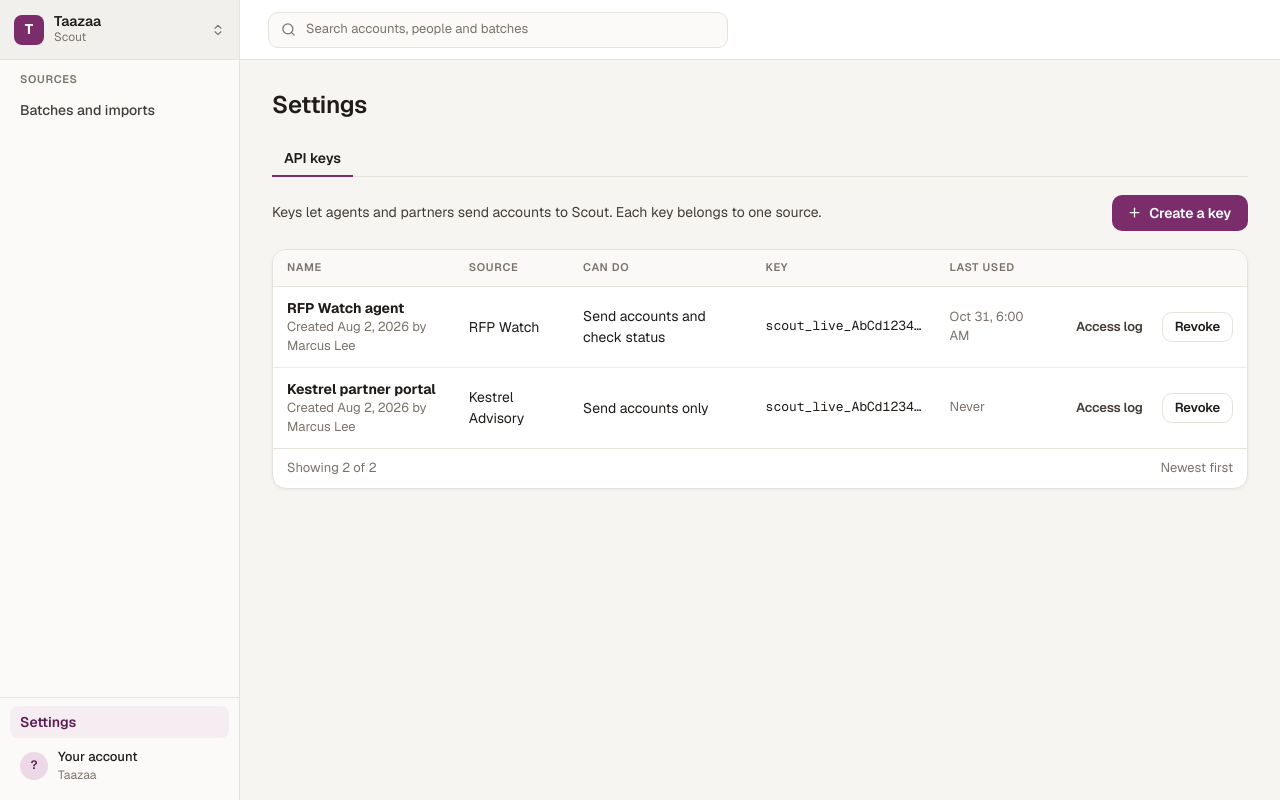
Test: revoke and access log › opens the access log in the URL with its empty state
The image size is (1280, 800).
Click the button with aria-label "Access log for Kestrel partner portal". click: click(1109, 408)
box: [1063,393,1156,423]
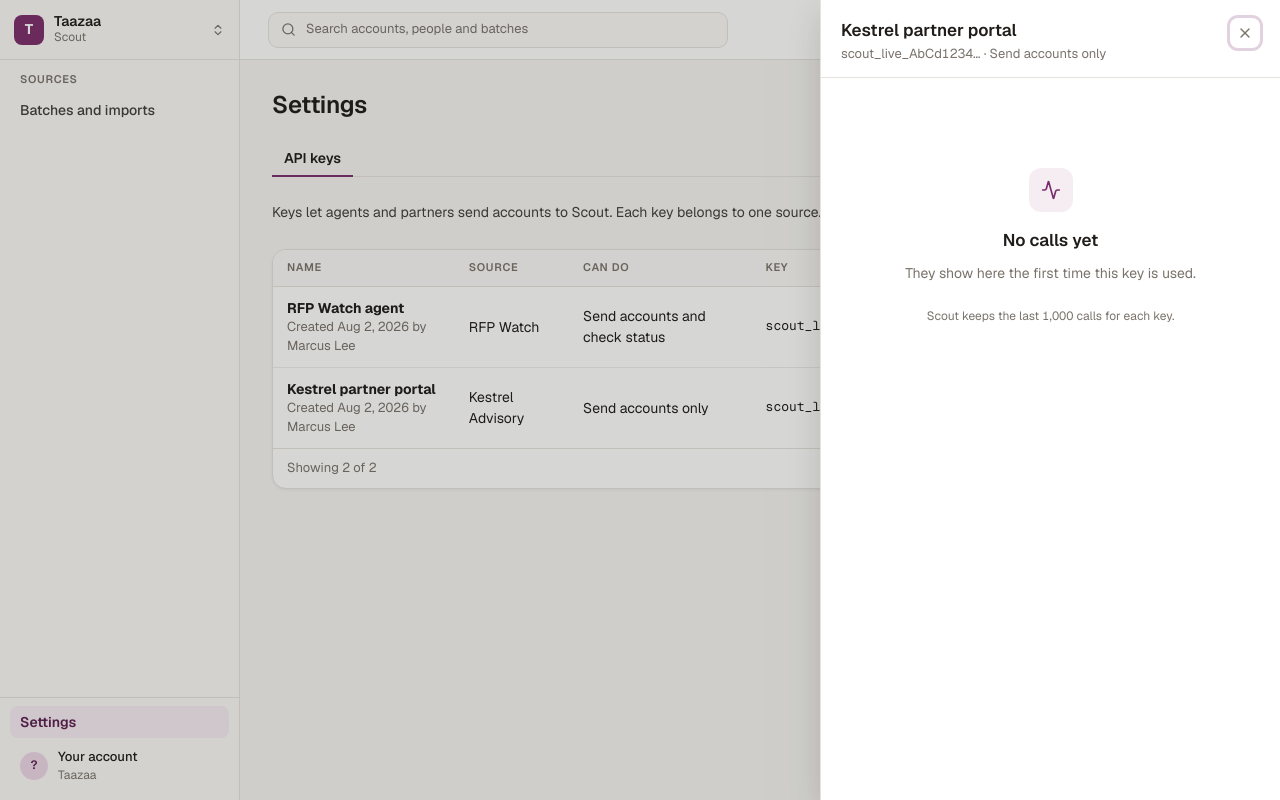
expect the dialog "Kestrel partner portal" shows "scout_live_AbCd1234… · Send accounts only": met, box [841,45,1106,62]
expect the heading "No calls yet" is shown: met, box [1003,228,1098,253]
expect the text "They show here the first time this key is used." is shown: met, box [905,263,1196,284]
